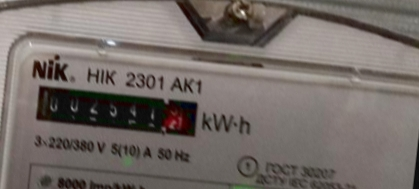0: (45, 89, 60, 111), (66, 89, 80, 112)
1: (144, 99, 158, 120)
2: (86, 93, 100, 114)
4: (125, 96, 140, 118)
5: (105, 94, 119, 117)
6: (165, 114, 178, 130)
screen: (23, 72, 210, 146)
